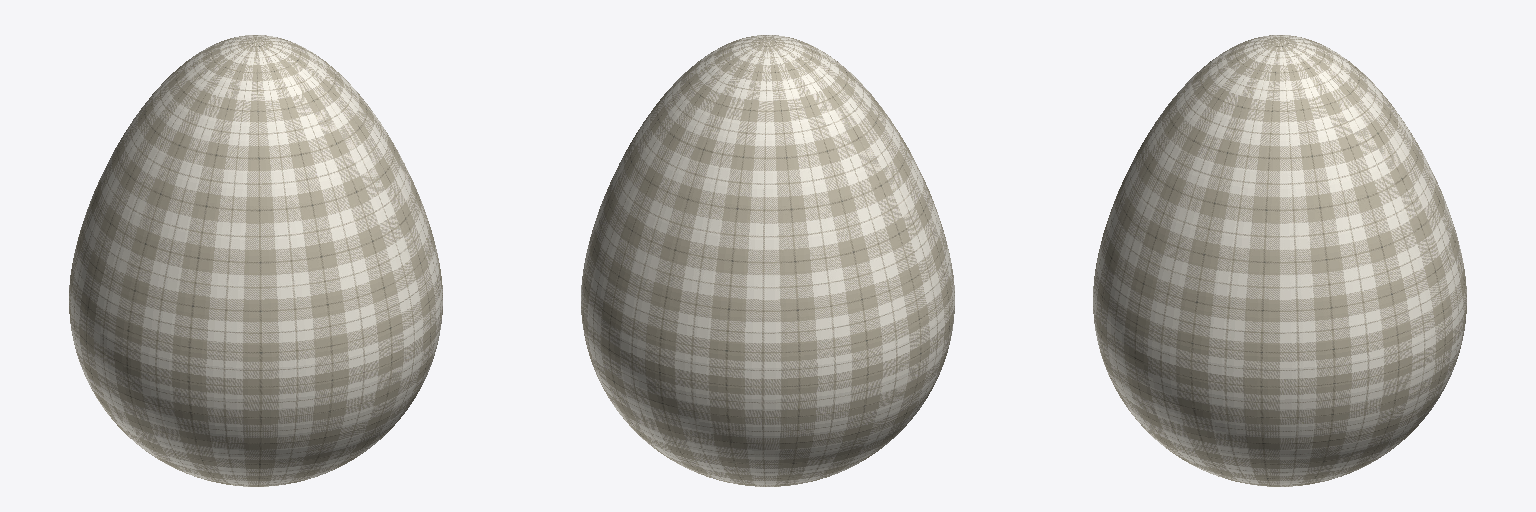
The picture shows the model from 3 angles: view 1: azimuth 30°, elevation 25°; view 2: azimuth 150°, elevation 25°; view 3: azimuth 270°, elevation 25°; orthographic projection.
Parts seen in each view (by area): view 1: Sphere; view 2: Sphere; view 3: Sphere.
Part boxes in pixels (left/top/right/bottom): Sphere: left=69, top=35, right=442, bottom=486; Sphere: left=581, top=35, right=954, bottom=486; Sphere: left=1093, top=35, right=1466, bottom=486.
Size of the model in its own units: 69.71 by 87.73 by 69.71.
Materials: 1 (1 with a texture image).